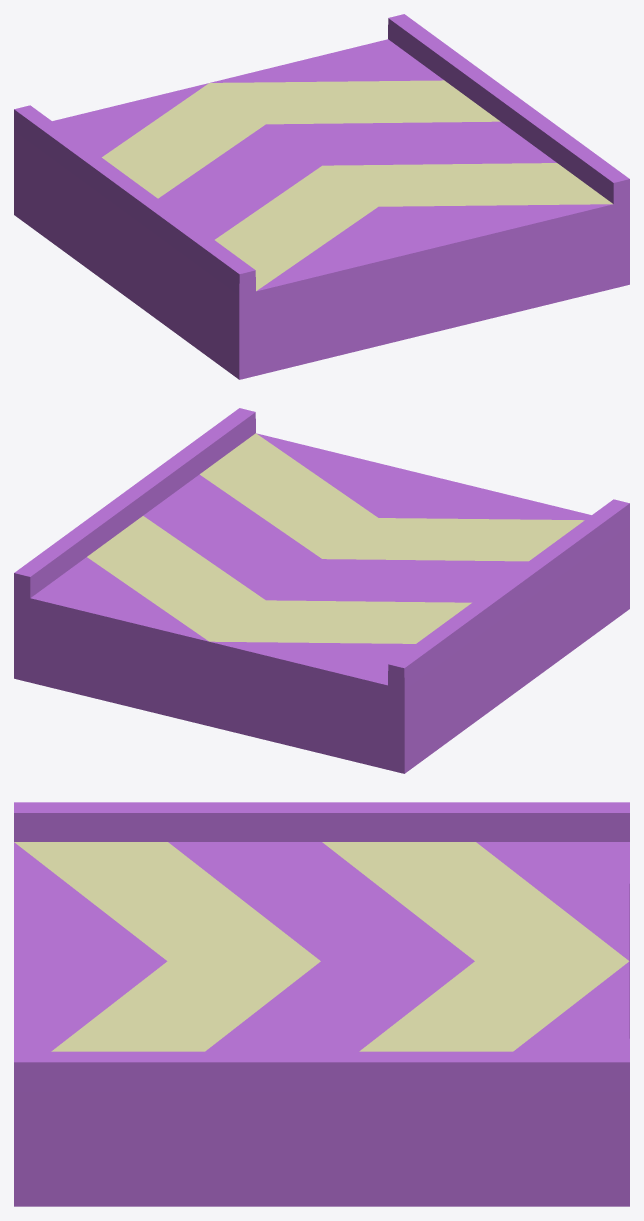
The model's file is platform.1.0.fbx.
3 views of the same model, one above another, from view 1: azimuth 30°, elevation 25°; view 2: azimuth 150°, elevation 25°; view 3: azimuth 270°, elevation 25° (orthographic). The views are drawn at different scales.
Parts seen in each view (by area): view 1: hareketli.platform; view 2: hareketli.platform; view 3: hareketli.platform.
Boxes of the visible parts, bbox=[...] form: hareketli.platform: bbox=[14, 14, 629, 379]; hareketli.platform: bbox=[14, 408, 629, 773]; hareketli.platform: bbox=[14, 802, 629, 1206].
Bounding box in the file's own units: 200 × 51.71 × 200.
